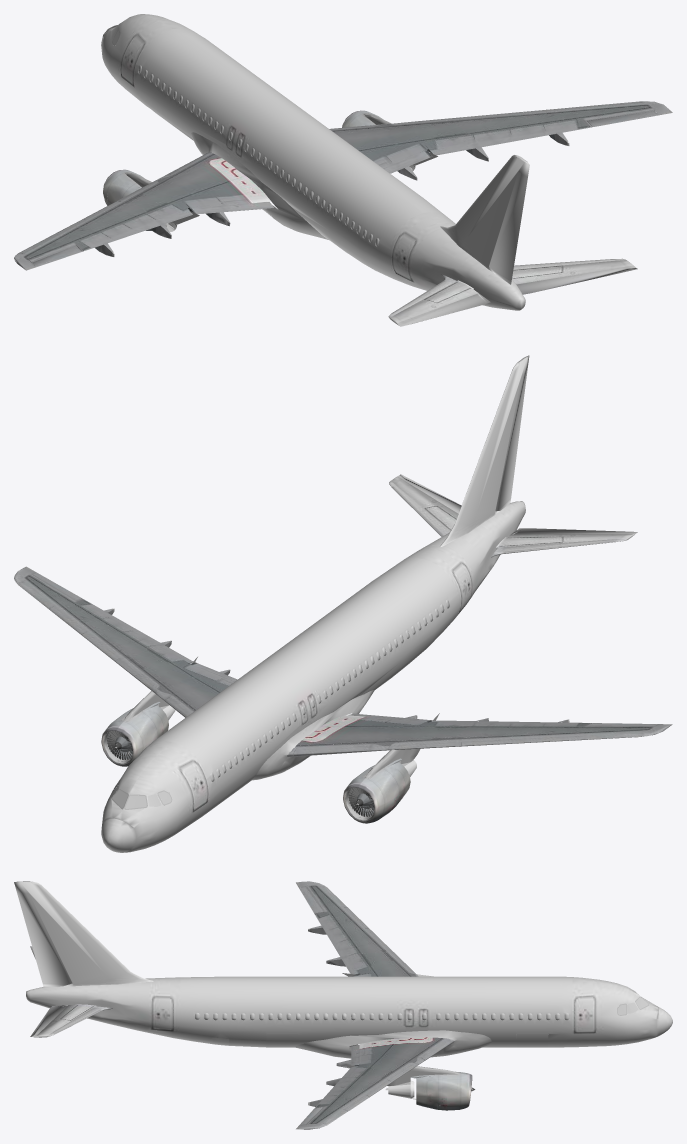
3 renders of one model, top to bottom at view 1: azimuth 30°, elevation 25°; view 2: azimuth 150°, elevation 25°; view 3: azimuth 270°, elevation 25°, orthographic. The views are drawn at different scales.
Visible parts, largest first — view 1: EngineR, CockpitWindows, Pylon_001; view 2: EngineR, CockpitWindows, Pylon_001, shroud_001; view 3: EngineR, CockpitWindows, Pylon_001.
Part boxes in pixels (box(x1,y1,x2,y2)): EngineR: box(14, 14, 672, 326); CockpitWindows: box(111, 25, 379, 246); Pylon_001: box(123, 113, 437, 224); EngineR: box(14, 355, 672, 852); CockpitWindows: box(111, 599, 449, 808); Pylon_001: box(121, 657, 439, 778); shroud_001: box(107, 730, 374, 816); EngineR: box(14, 881, 672, 1129); CockpitWindows: box(195, 997, 648, 1020); Pylon_001: box(342, 973, 460, 1086).
Size of the model in its own units: 33.91 by 11.63 by 38.27.
13 materials, 1 textured.
